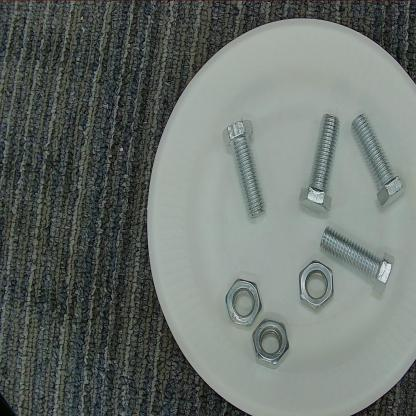FOD: (343, 108, 413, 216), (320, 222, 402, 300), (218, 114, 272, 226), (294, 111, 342, 217), (294, 256, 338, 323), (251, 314, 292, 372), (223, 273, 263, 327)
